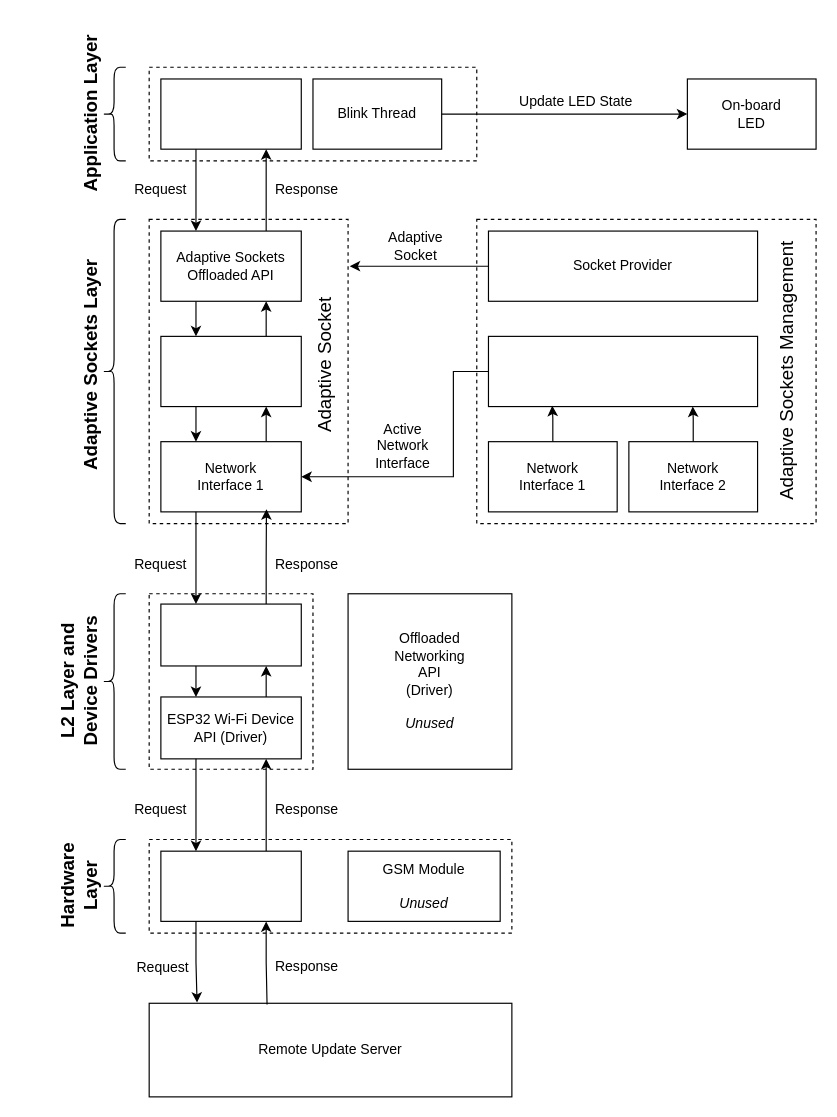
This 837x1117 diagram has some shape labels left out. Here are the shapes that lost their labels. From the top down, the centre of each, then its label:
At pixel 230 113: "Updatehub Client Thread".
At pixel 230 371: "Network Context".
At pixel 622 371: "Network Interface Selector".
At pixel 230 634: "Native TCP/IP Protocol Processing".
At pixel 230 885: "Wi-Fi Module".
